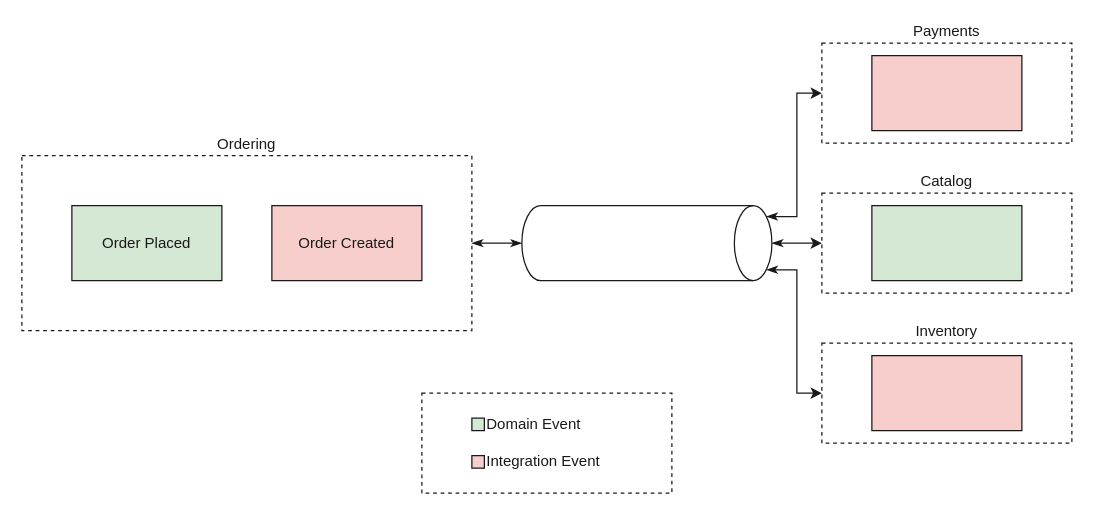
This 1094x515 diagram has some shape labels left out. The shapes that lost their labels are listed below. From the top down, each one's centre as x and y in pixels, then its label:
point (946, 92): Payment Completed
point (946, 242): Product Stock Depleted
point (946, 392): Inventory Updated
